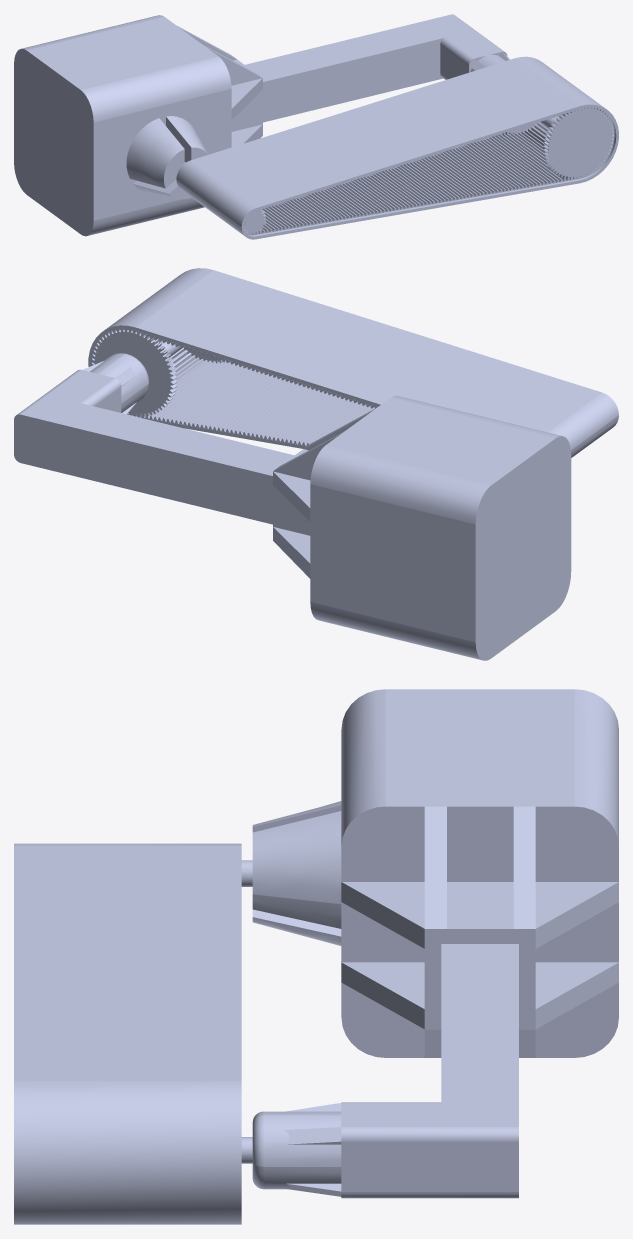
Rendered from excavator v1.gltf.
The picture shows the model from 3 angles, top to bottom: view 1: azimuth 30°, elevation 25°; view 2: azimuth 150°, elevation 25°; view 3: azimuth 270°, elevation 25°; orthographic projection. The views are drawn at different scales.
Parts seen in each view (by area): view 1: empty_2, empty_10, empty_6, empty_9; view 2: empty_2, empty_10, empty_6, empty_8; view 3: empty_2, empty_10, empty_6.
Part boxes in pixels (x1,y1,x2,y2): empty_2: (14, 15, 262, 236); empty_10: (176, 56, 618, 239); empty_6: (245, 14, 509, 122); empty_9: (543, 107, 614, 179); empty_2: (273, 395, 571, 660); empty_10: (88, 268, 618, 457); empty_6: (14, 353, 294, 524); empty_8: (91, 329, 177, 416); empty_2: (252, 689, 618, 1057); empty_10: (14, 843, 241, 1224); empty_6: (252, 944, 518, 1198).
Bounding box in the file's own units: 391 × 125 × 273.
